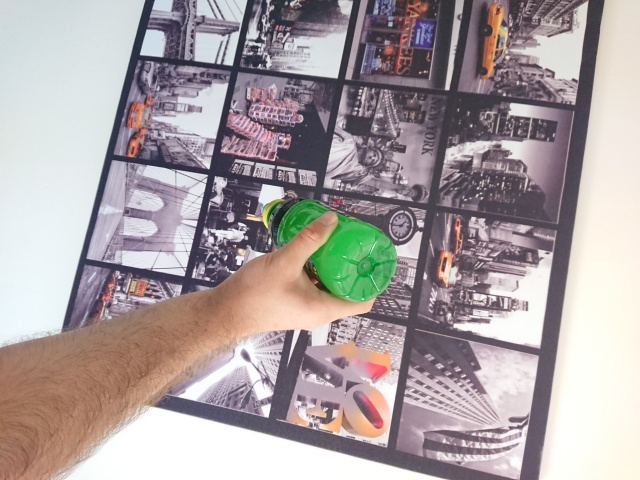Vindi Iso Sport Lemon-Grapefruit 500mL: (259, 194, 401, 305)
